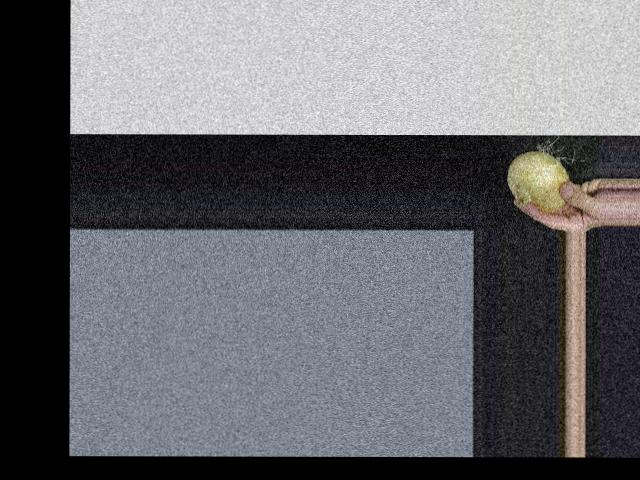onion: (508, 150, 568, 213)
